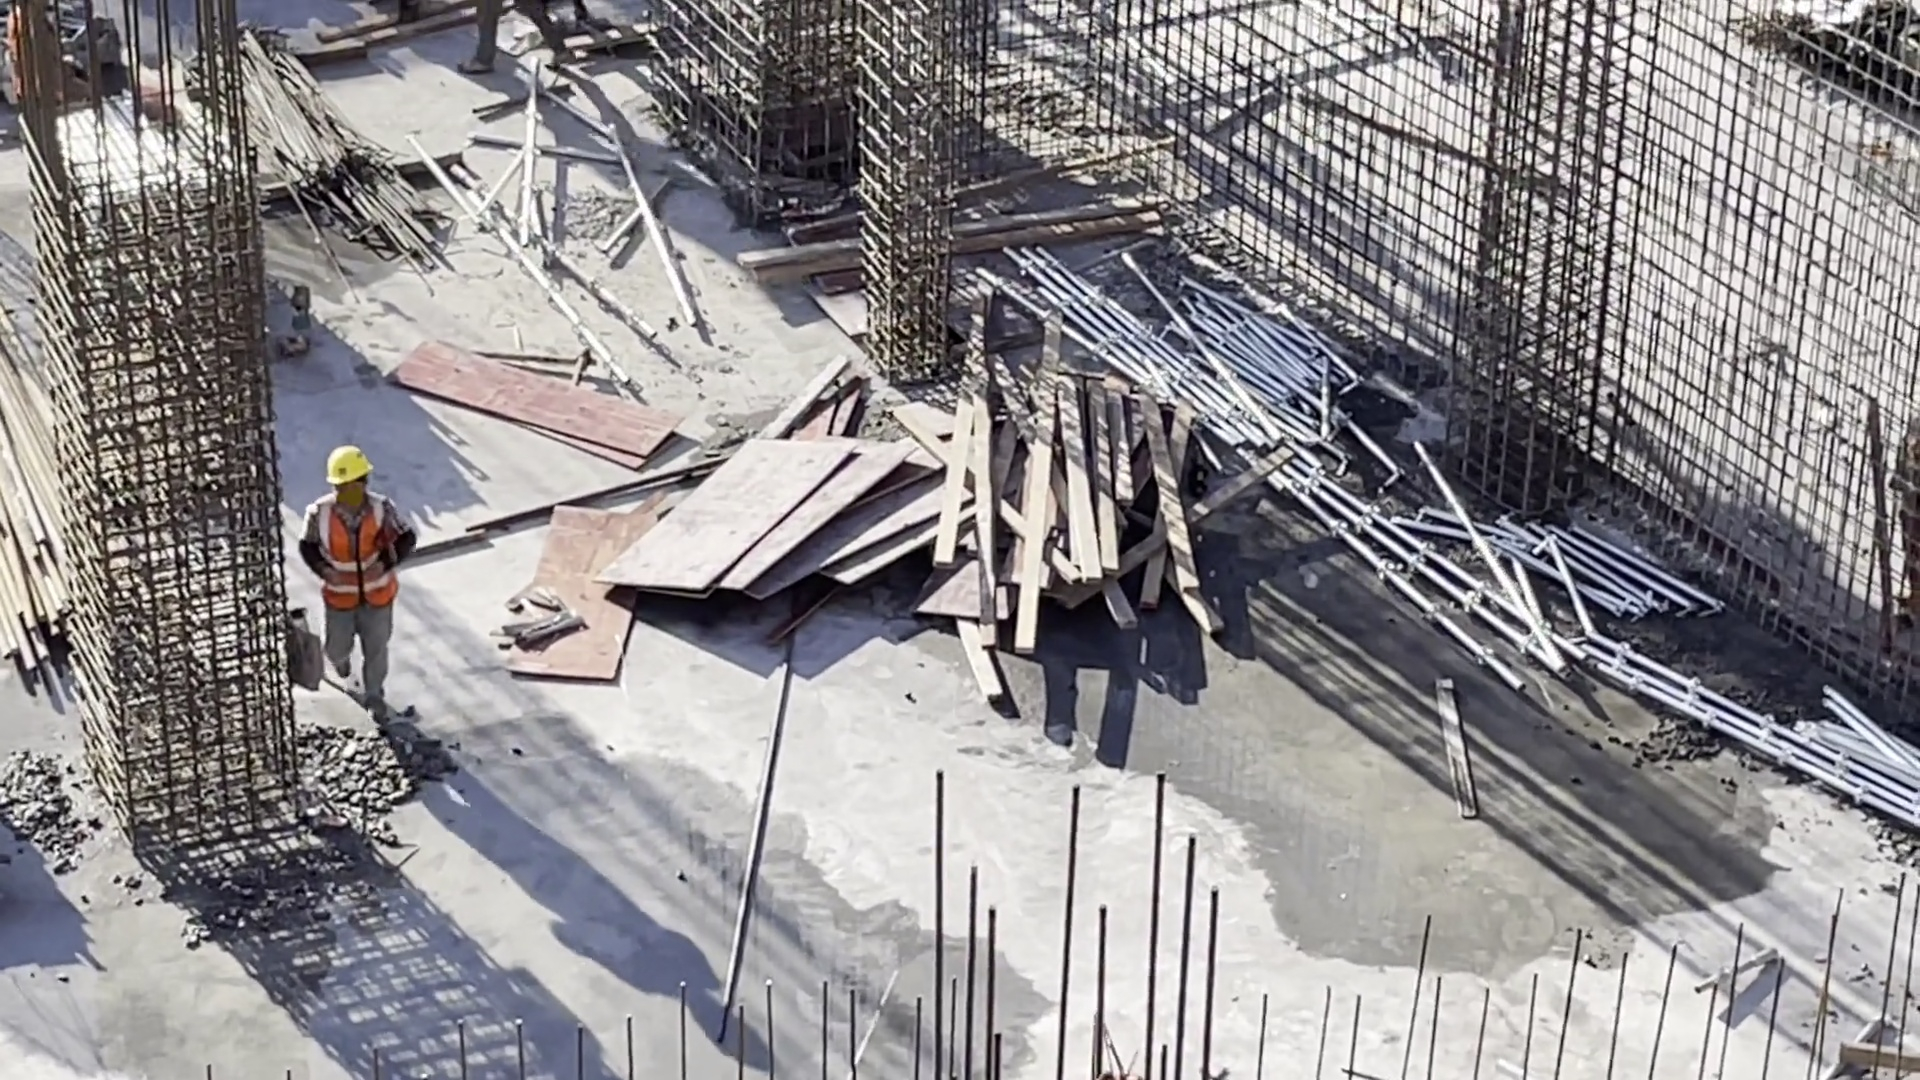board: (609, 428, 938, 624)
helmet: (325, 439, 367, 498)
person: (296, 426, 426, 685)
scaffold: (1478, 507, 1685, 688), (1133, 292, 1357, 455), (1801, 714, 1920, 825)
vest: (309, 489, 415, 602)
wood: (957, 294, 1219, 657)
